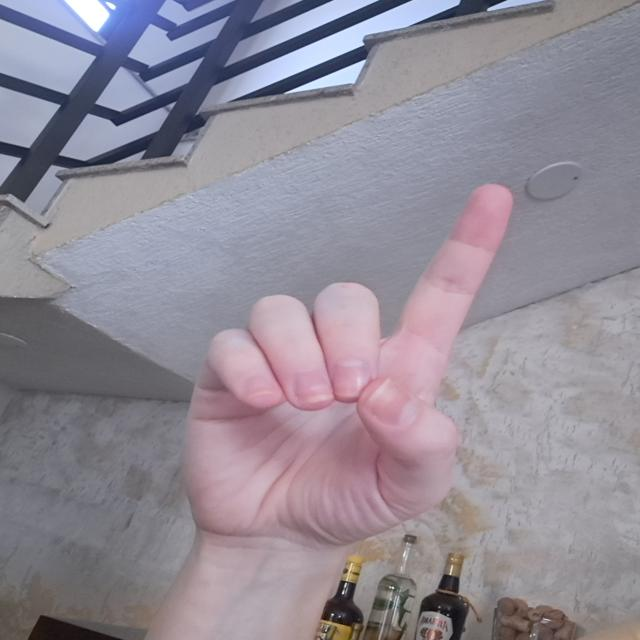D2: (167, 175, 523, 537)
